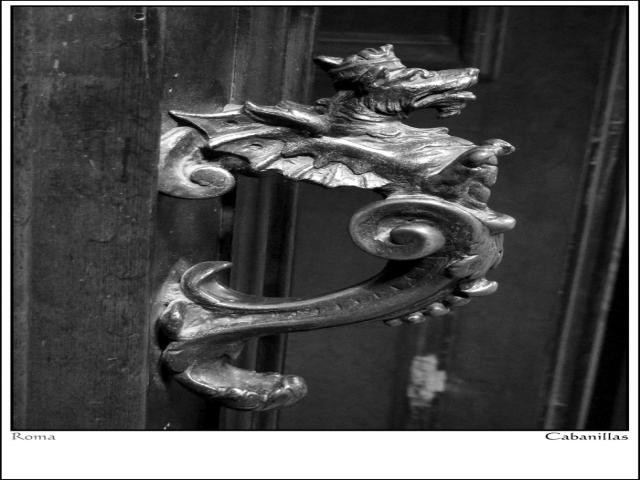Door-handle: (180, 37, 519, 417)
